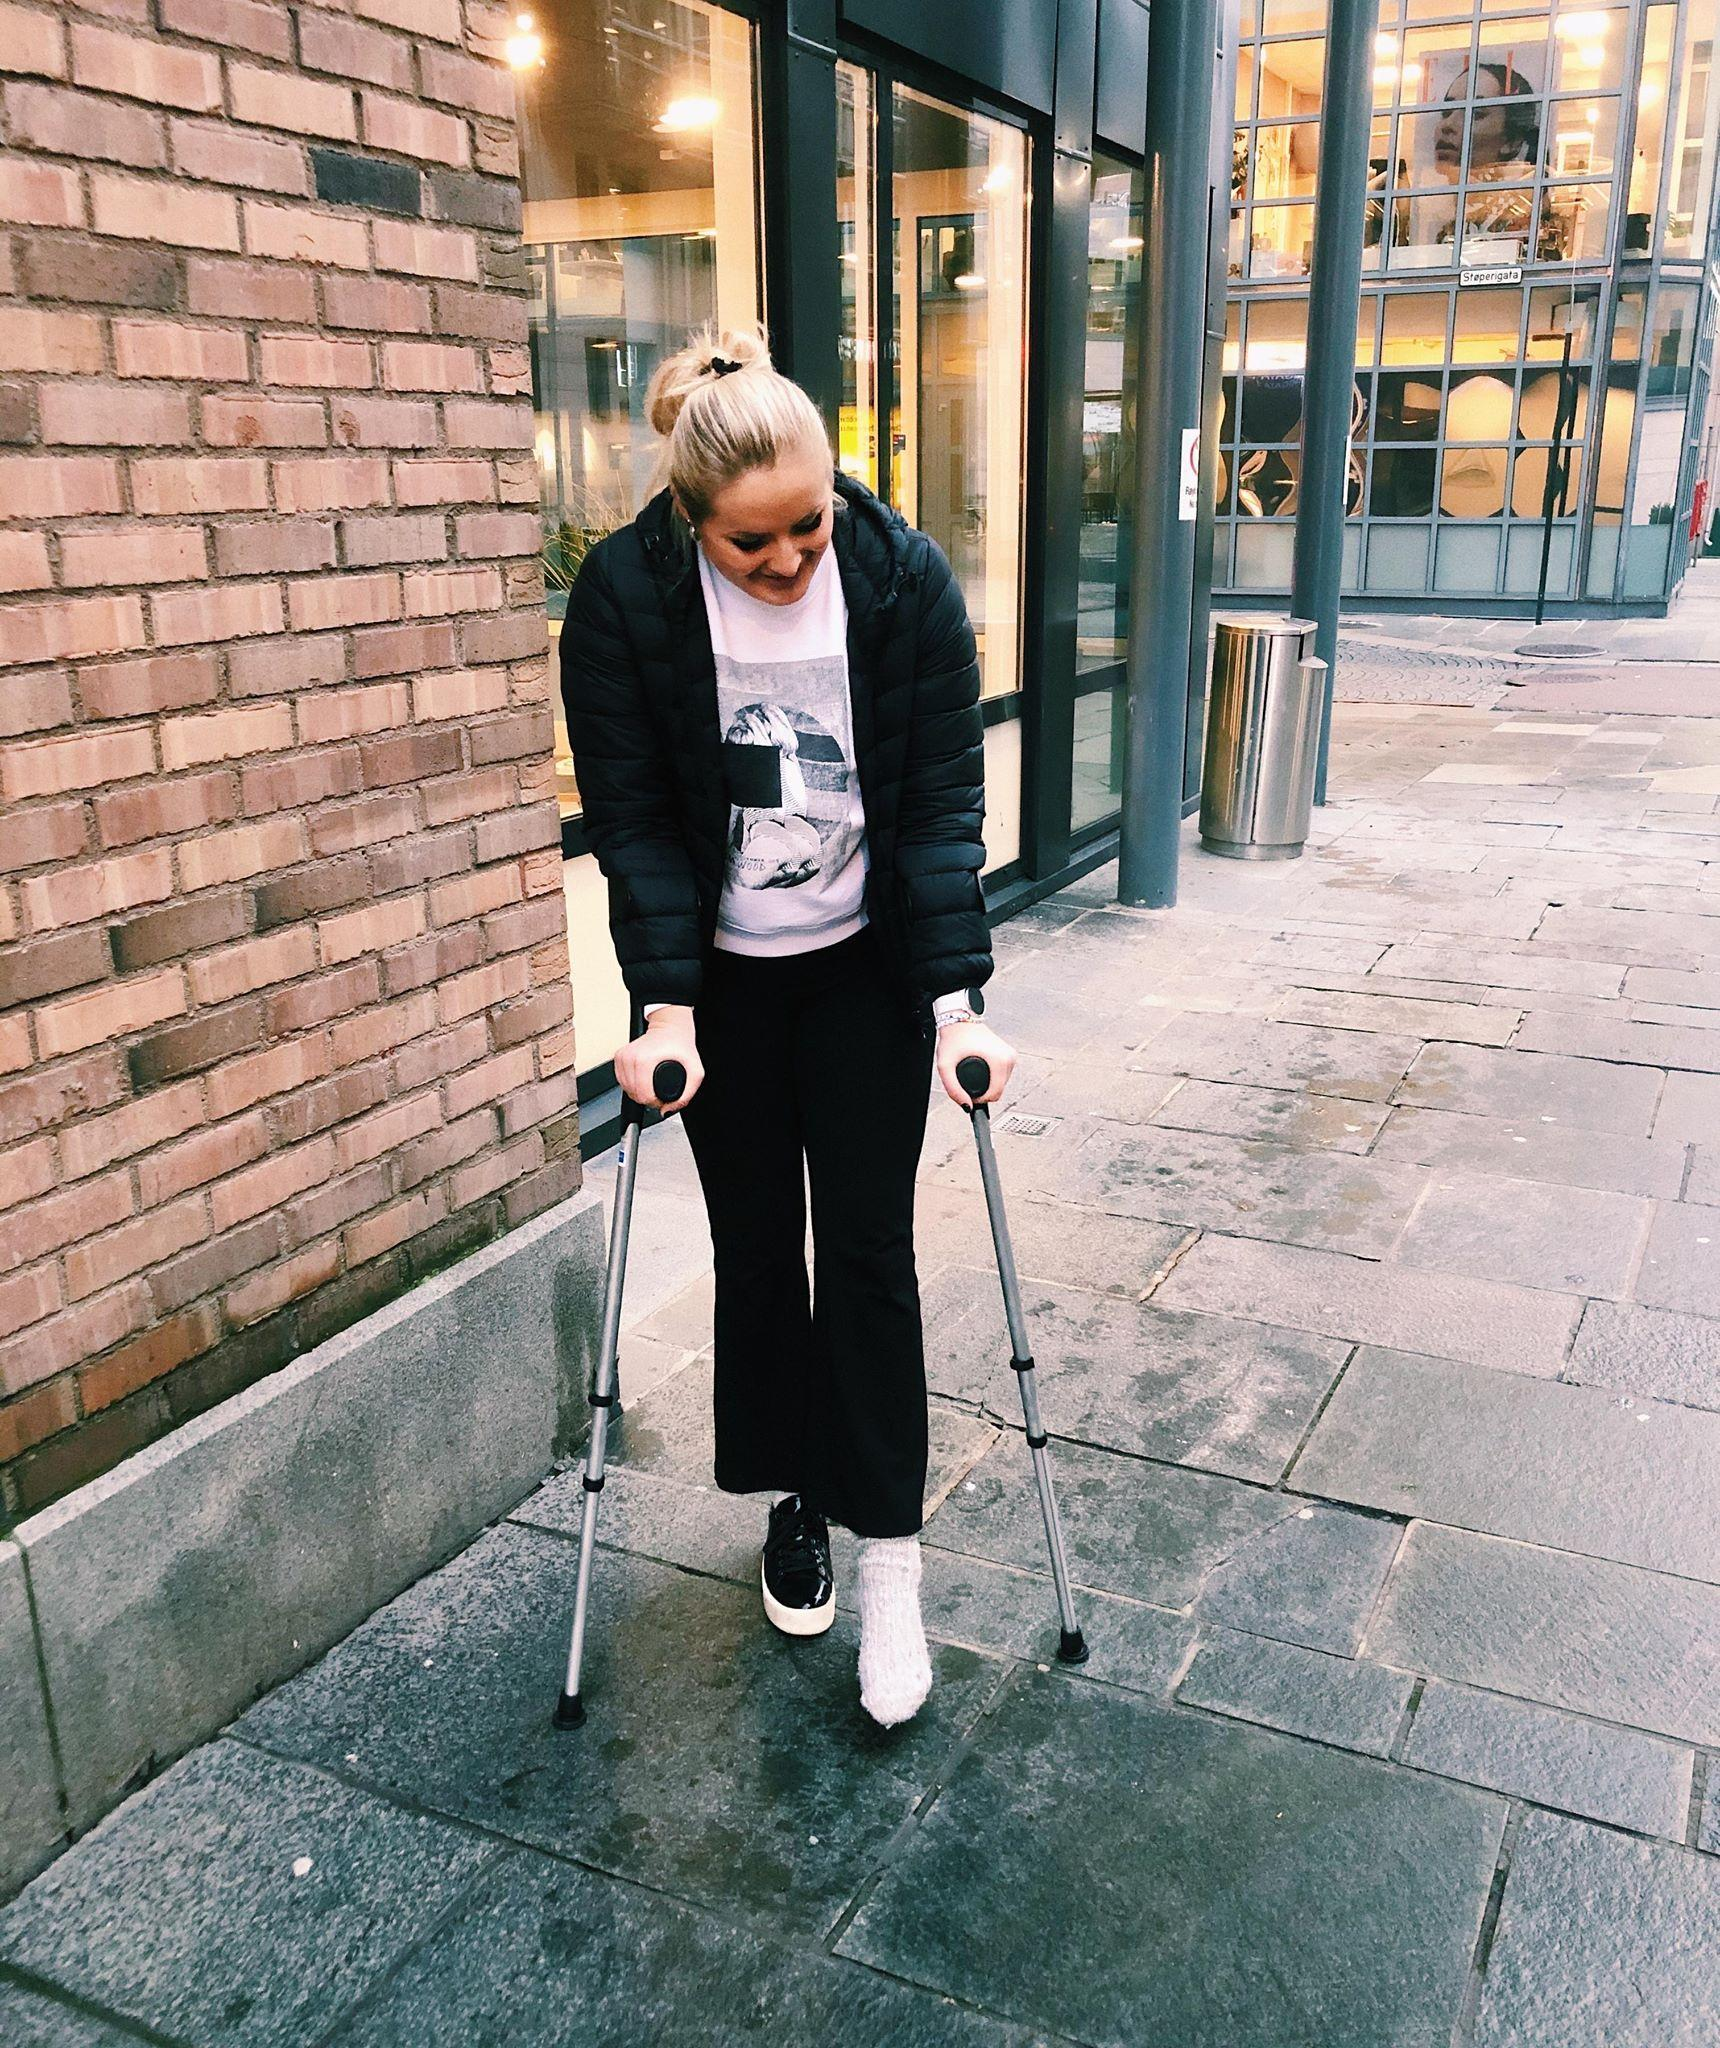crutches: (527, 326, 1116, 1763)
